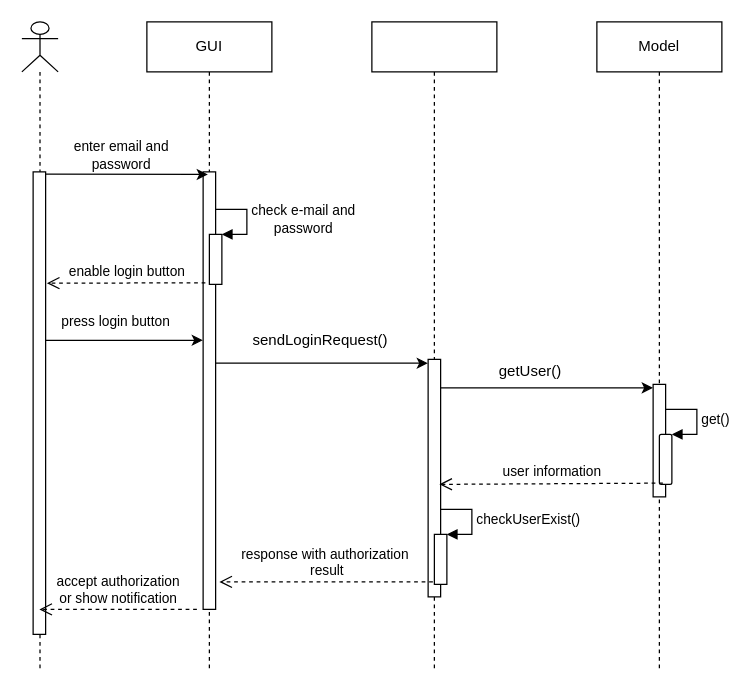
Some shapes in this 753 by 694 pixel diagram are drawn without their labels. The shapes that lost their labels are listed below. From the top down, each one's box as (x1, y1, x2, y2) in pixels, then its label:
(21, 21, 58, 672): User
(371, 21, 497, 672): Controller
